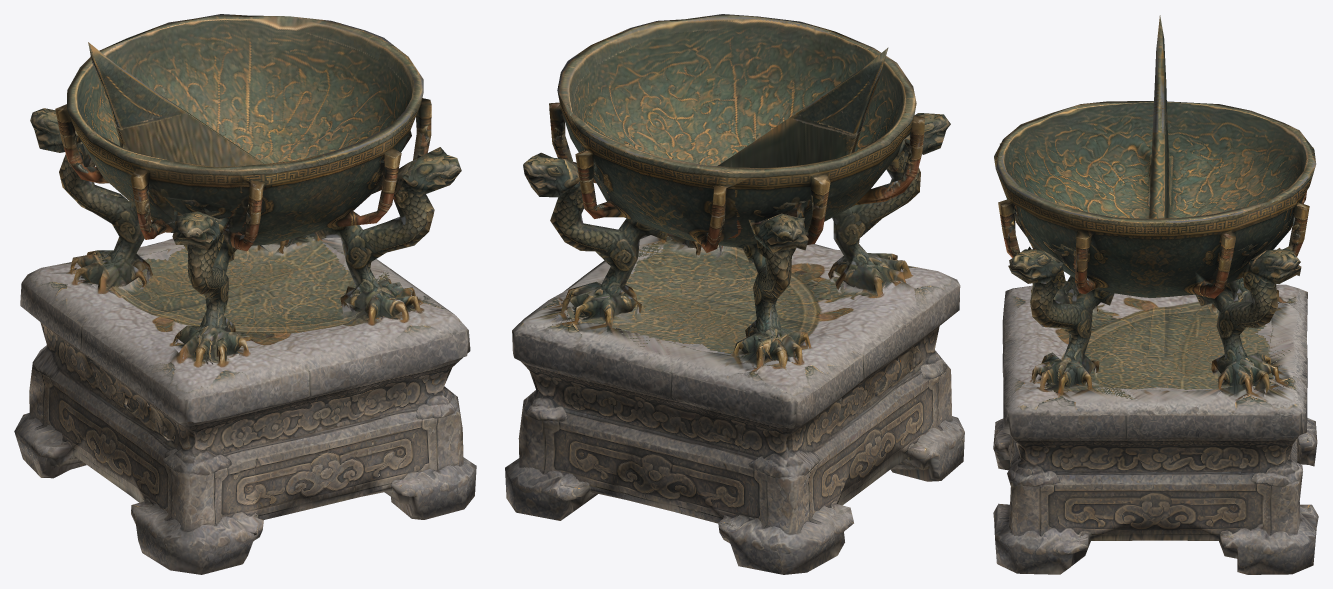
The model's file is PR_Angbuilgu.fbx.
3 views of the same model, side by side, from view 1: azimuth 30°, elevation 25°; view 2: azimuth 150°, elevation 25°; view 3: azimuth 270°, elevation 25° (orthographic). The views are drawn at different scales.
Parts seen in each view (by area): view 1: texture_mapping; view 2: texture_mapping; view 3: texture_mapping.
Boxes of the visible parts, left/top/right/bottom form: texture_mapping: left=14, top=14, right=476, bottom=574; texture_mapping: left=505, top=14, right=964, bottom=574; texture_mapping: left=993, top=15, right=1318, bottom=574.
Bounding box in the file's own units: 0.7102 × 0.6864 × 0.9952.
1 material, 1 textured.
